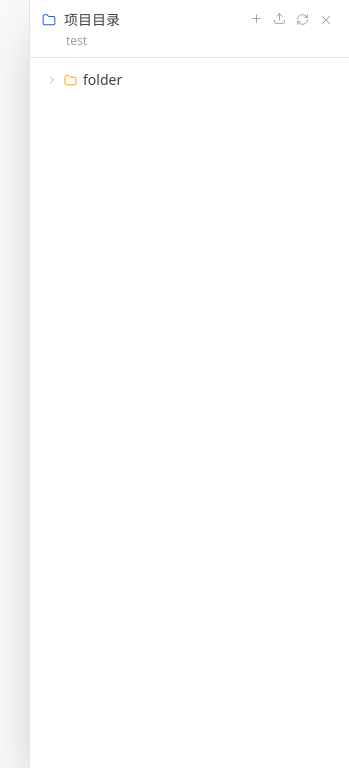
Test case: large directories load the first page and append more on demand
Step 1. Click the button "folder" → coordinates (103, 80), box [38,66,341,94]
(page scrolled)
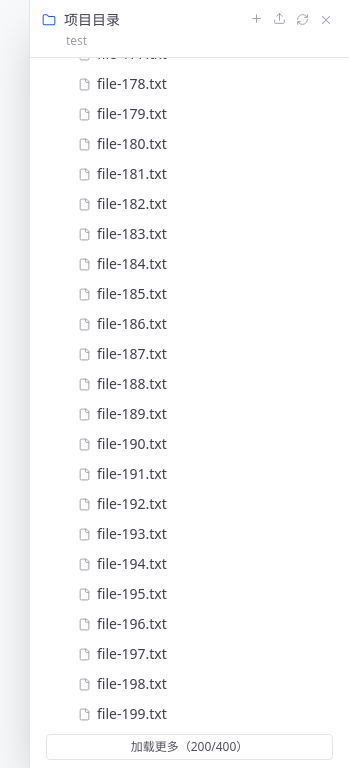
Expected: the button "file-199.txt" is shown, [38,700,341,728]
Step 2. Click the button "加载更多（200/400）" → coordinates (190, 747), box [46,734,333,760]
(page scrolled)
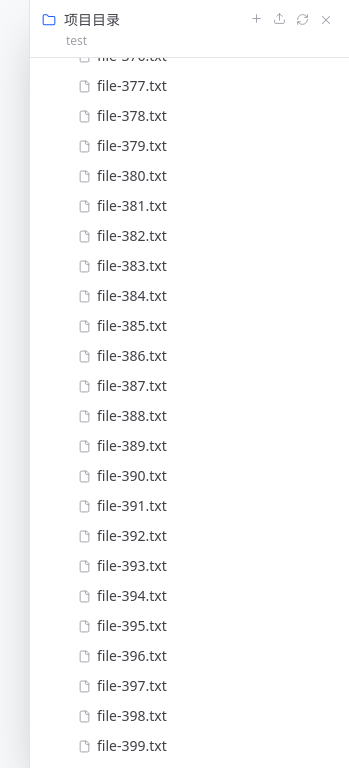
Expected: the button "file-399.txt" is shown, [38,732,341,760]
